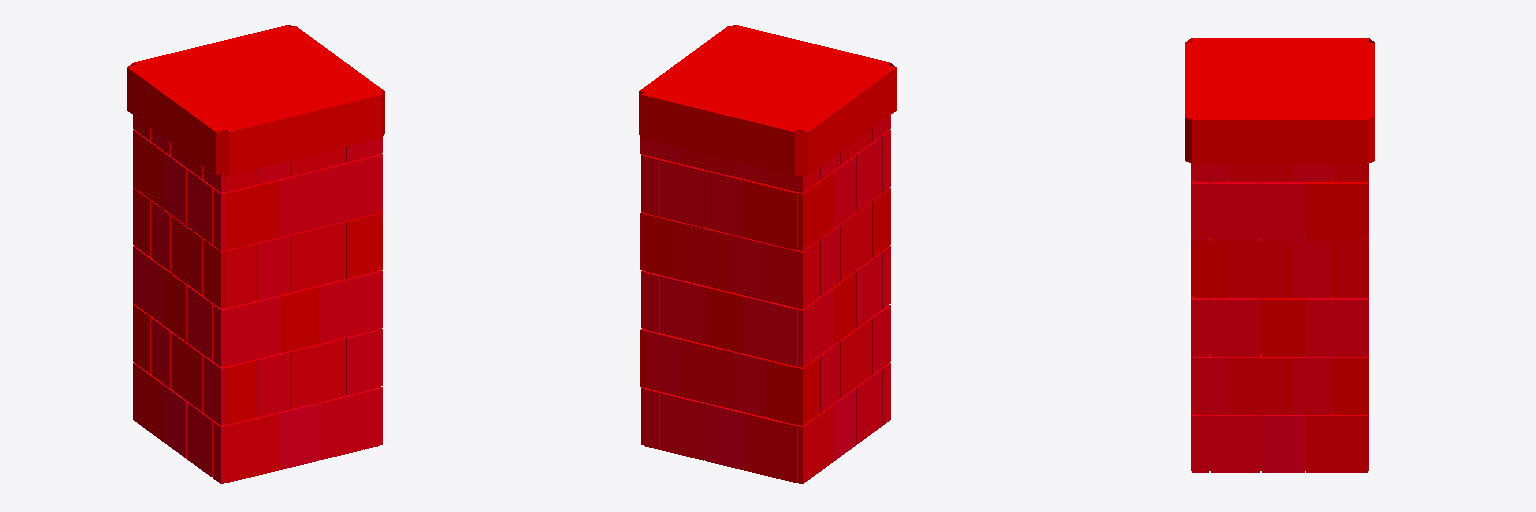
Rendered from brickHalfPillar.obj.
3 renders of one model, left to right at view 1: azimuth 30°, elevation 25°; view 2: azimuth 150°, elevation 25°; view 3: azimuth 270°, elevation 25°, orthographic.
Visible parts, largest first — view 1: BrickFence.002_Cube.065; view 2: BrickFence.002_Cube.065; view 3: BrickFence.002_Cube.065.
Part boxes in pixels (left/top/right/bottom): BrickFence.002_Cube.065: left=127, top=25, right=384, bottom=483; BrickFence.002_Cube.065: left=639, top=25, right=896, bottom=483; BrickFence.002_Cube.065: left=1185, top=38, right=1374, bottom=472.
Size of the model in its own units: 0.277 by 0.5543 by 0.2707.